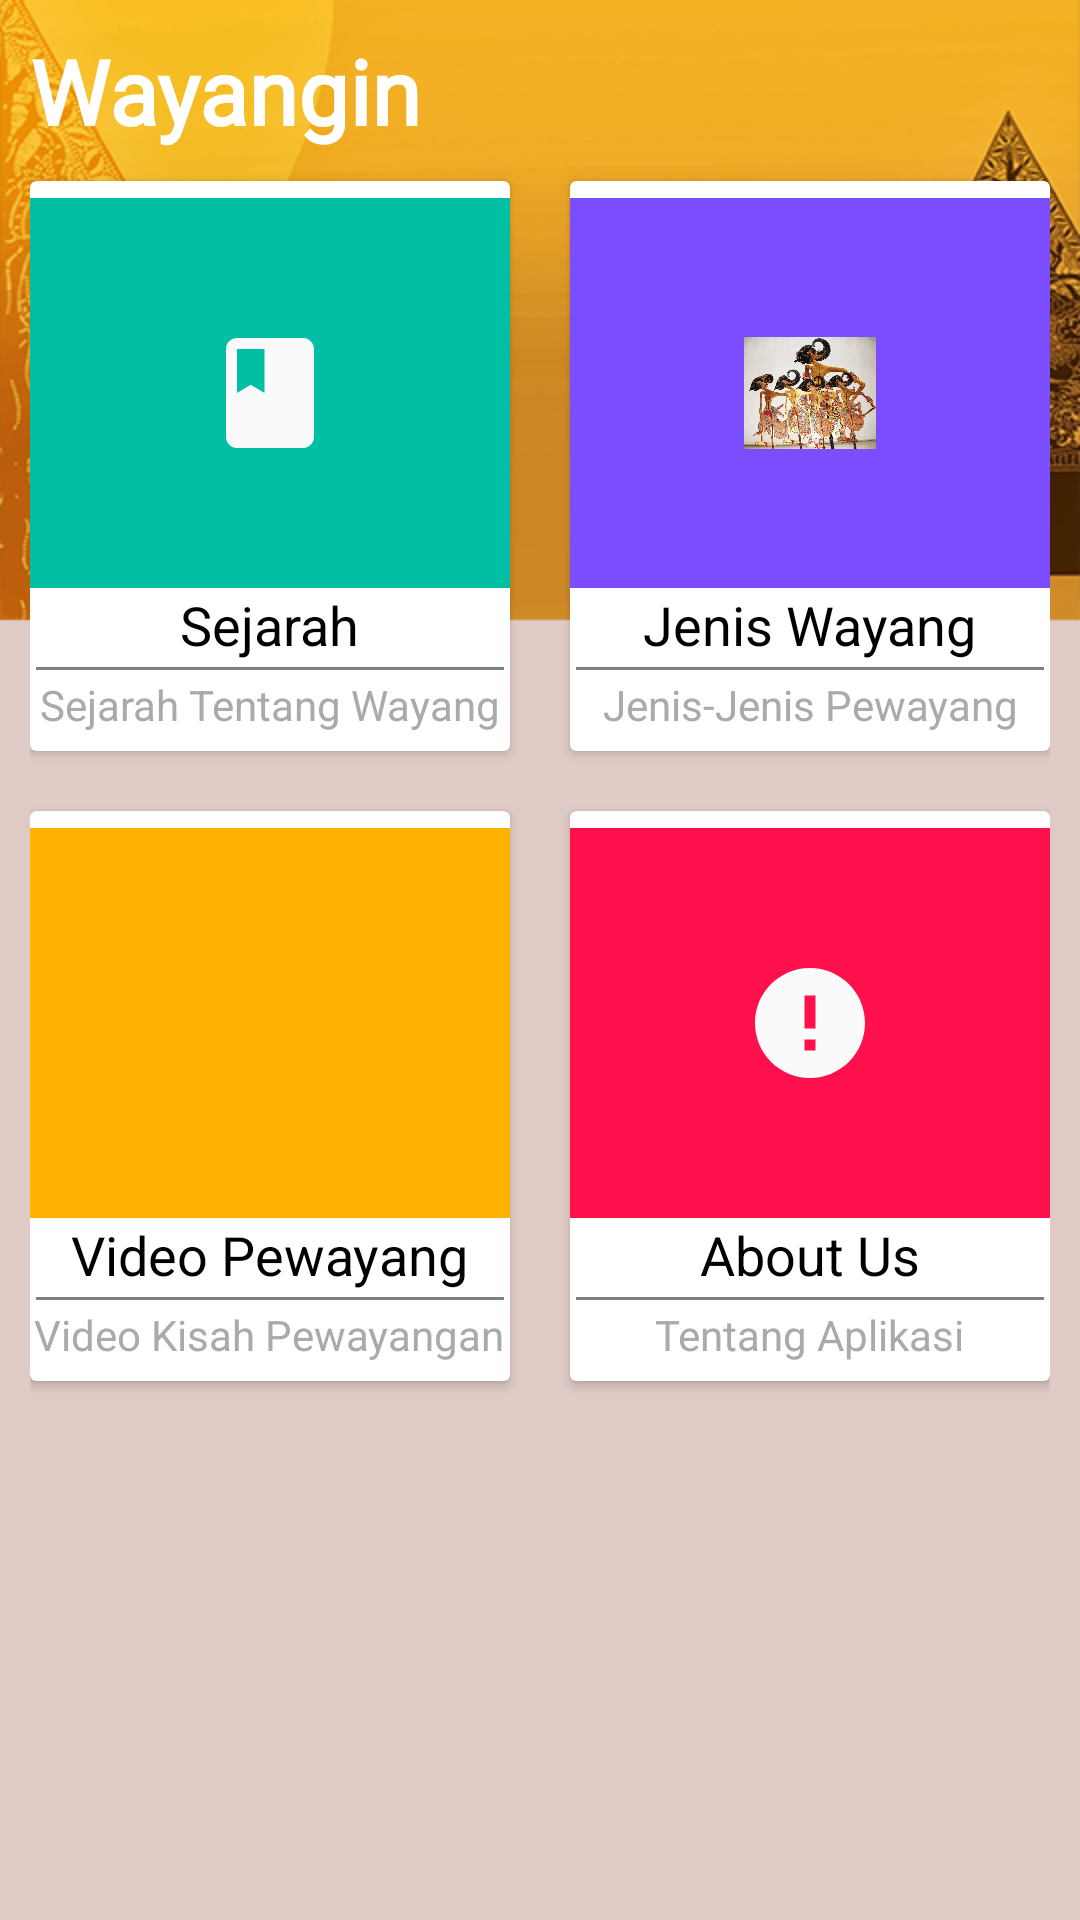

Icon click points for this 1080 x 1920 phone screenshot, format (x,y):
book: (270,393)
error: (810,1023)
pandawa: (810,393)
